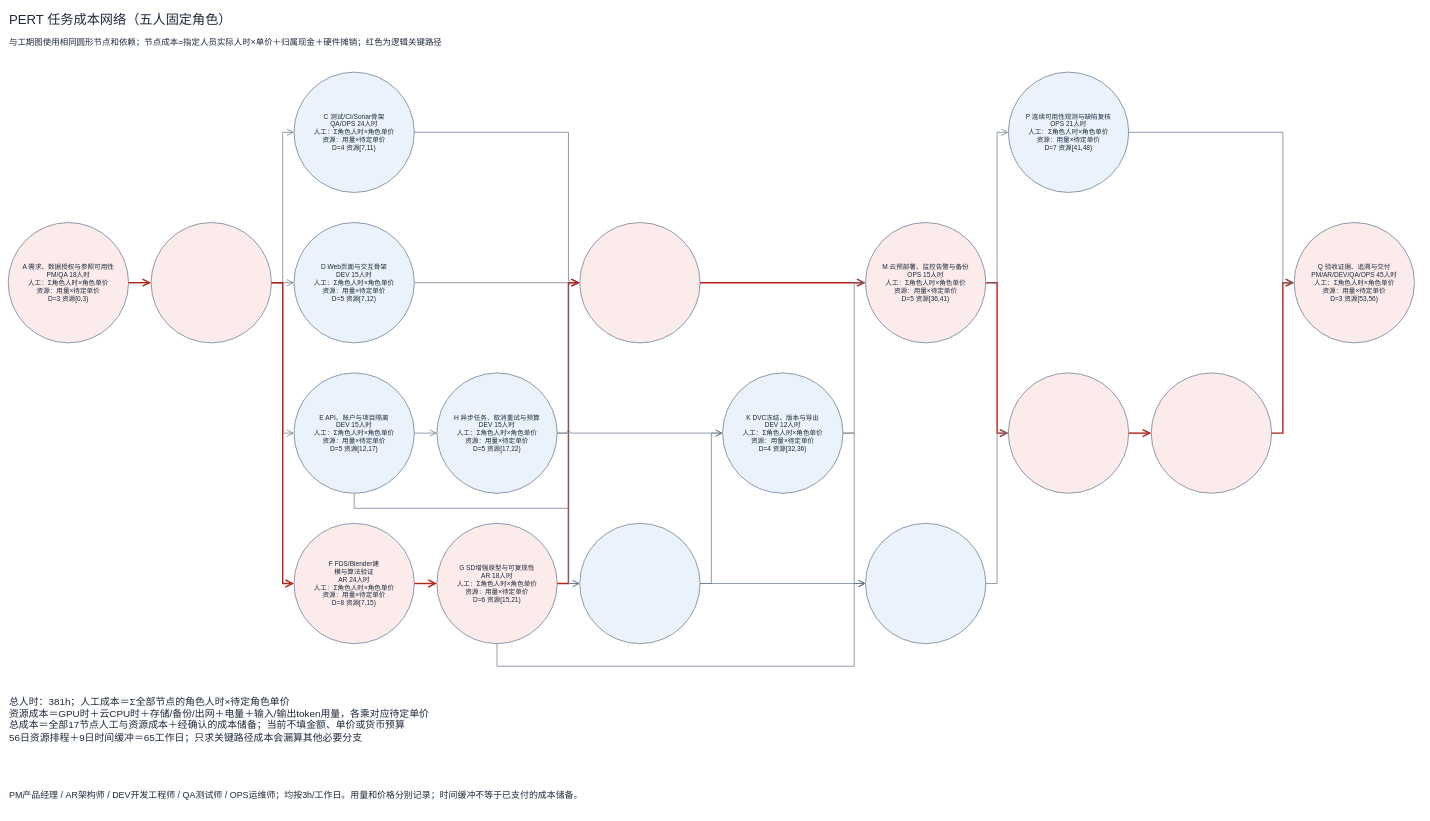
Image size: 1430x821. Some labels were removed from this diagram. Here are the shapes that lost their labels. From the top down, the centre of each, then its label:
At [211,282]: "B 架构、ER与API契约 AR 12人时 人工：Σ角色人时×角色单价 资源：用量×待定单价 D=4 资源[3,7)".
At [639,282]: "I 统一Web贯通与结果对比 DEV 15人时 人工：Σ角色人时×角色单价 资源：用量×待定单价 D=5 资源[22,27)".
At [1068,432]: "N 全流程、性能安全与文档测试 QA/DEV 36人时 人工：Σ角色人时×角色单价 资源：用量×待定单价 D=6 资源[43,49)".
At [1211,432]: "O 云Demo、手册、PPT 与视频 PM/OPS 24人时 人工：Σ角色人时×角色单价 资源：用量×待定单价 D=4 资源[49,53)".
At [639,583]: "J Label Studio 同步、审核与质检 DEV/QA 30人时 人工：Σ角色人时×角色单价 资源：用量×待定单价 D=5 资源[27,32)".
At [925,583]: "L 真实数据与物理/检测评价 AR/QA 42人时 人工：Σ角色人时×角色单价 资源：用量×待定单价 D=7 资源[36,43)".
